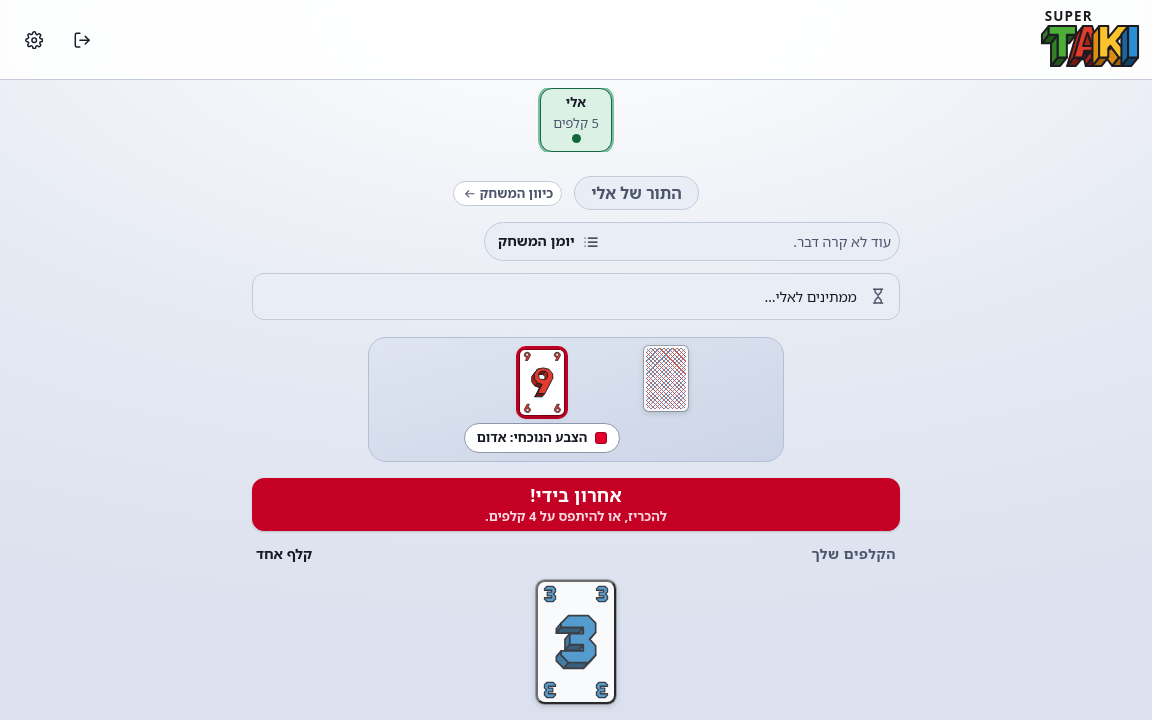
Test: the draw pile › refuses when it is not your turn, and says why
What coordinates should you click on to do the following:
click the button named "חבילת משיכה"
I would click on:
 (666, 378)
Its box is x1=644 y1=346 x2=688 y2=411.
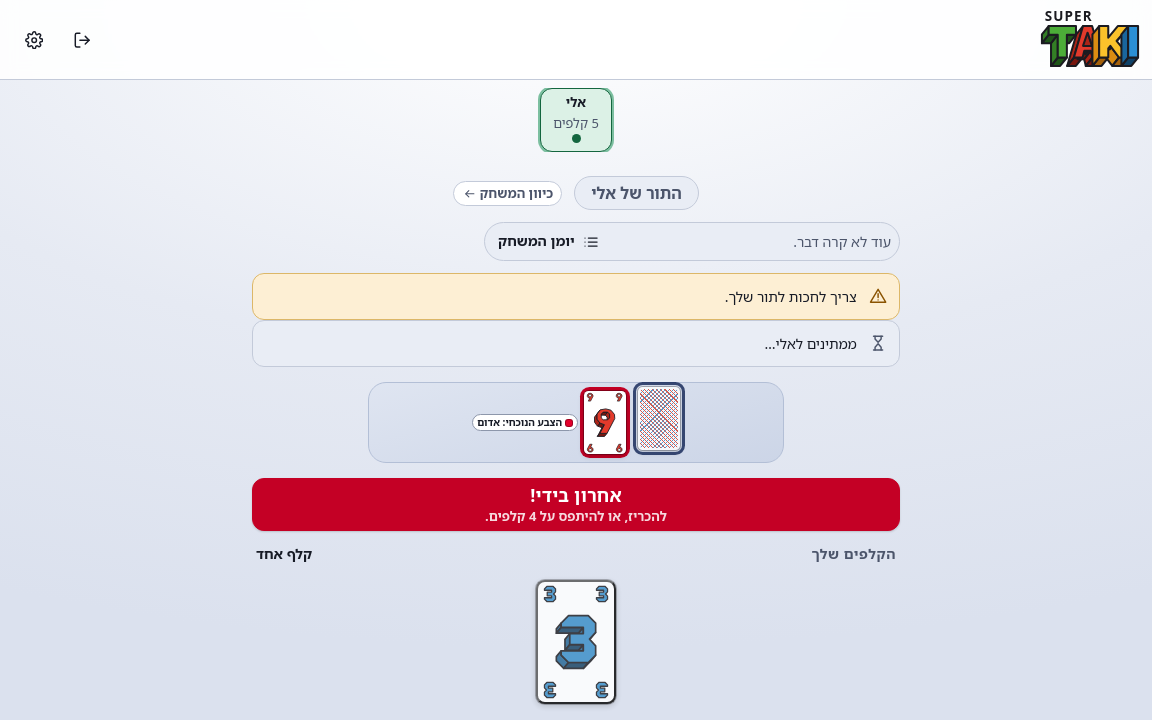
Expected: the text "ממתינים לאלי…" is shown, x1=764 y1=334 x2=857 y2=353
Result: the message "צריך לחכות לתור שלך." is shown at x1=252 y1=273 x2=900 y2=320
